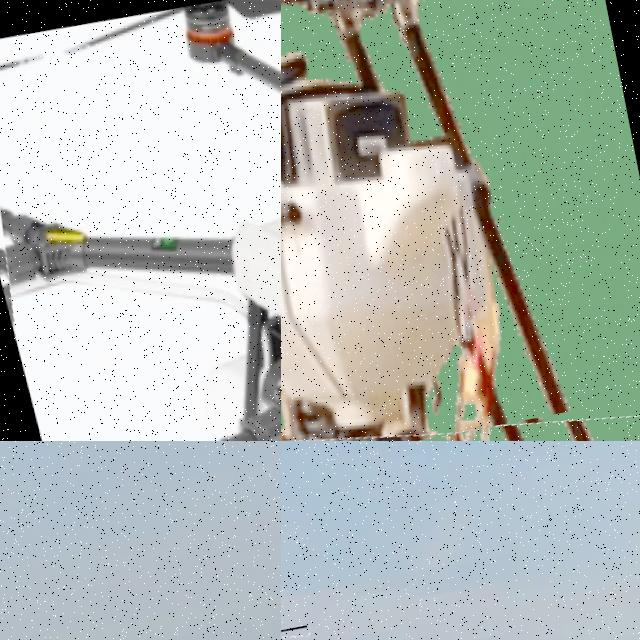drone: (281, 0, 640, 441), (0, 0, 281, 441)
